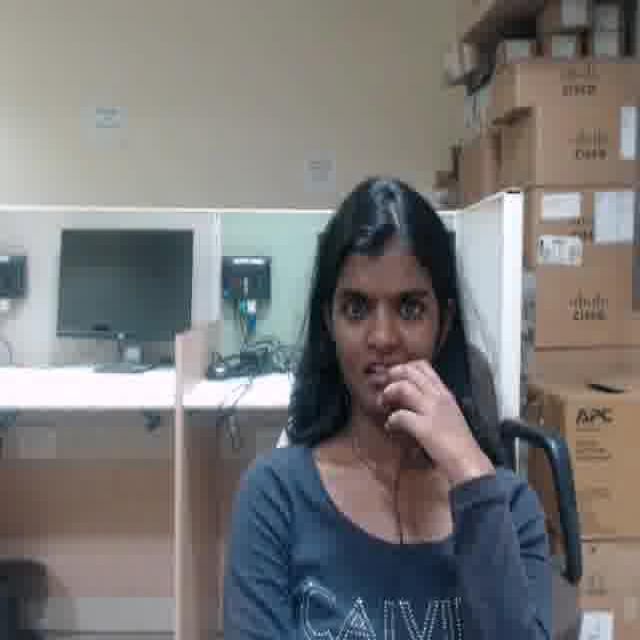Confusion: (334, 250, 436, 418)
